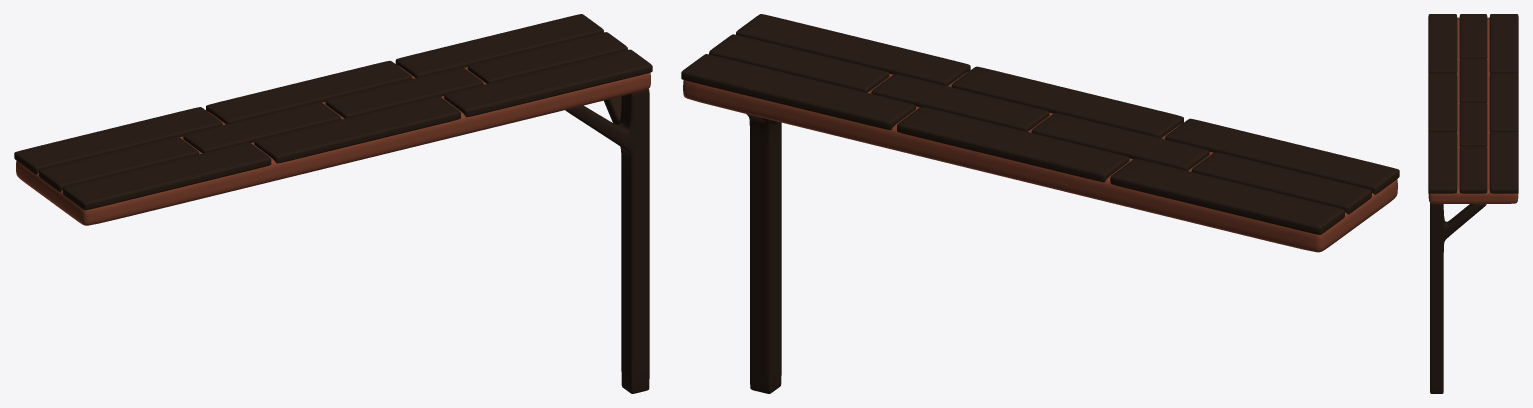
File: galery.obj
The picture shows the model from 3 angles, left to right: view 1: azimuth 30°, elevation 25°; view 2: azimuth 150°, elevation 25°; view 3: azimuth 270°, elevation 25°; orthographic projection. The views are drawn at different scales.
Parts seen in each view (by area): view 1: galery; view 2: galery; view 3: galery.
Part boxes in pixels (<box>): galery: <box>14,14,652,393</box>; galery: <box>681,14,1399,393</box>; galery: <box>1428,14,1518,393</box>.
Size of the model in its own units: 5.85 by 3.21 by 1.27.
